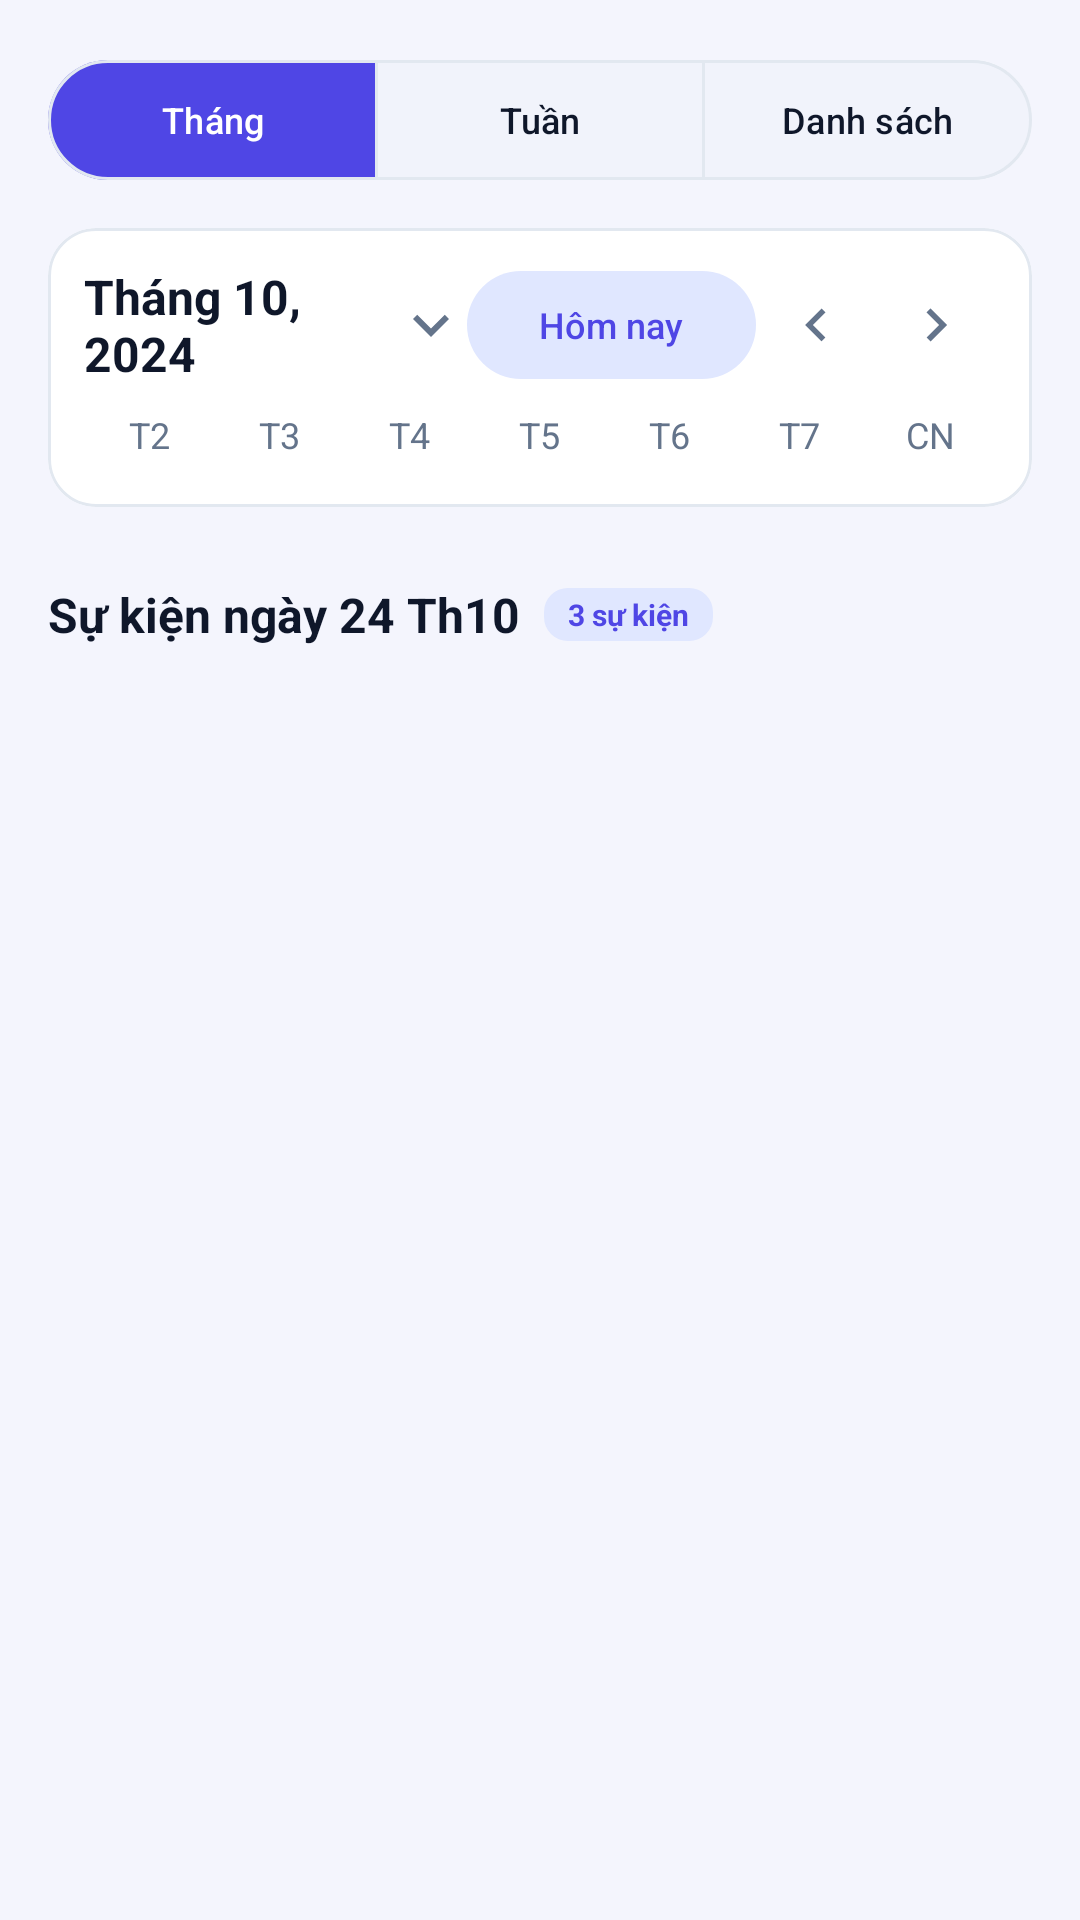

Named icons in this screenshot (1080*1920) and their centers, (x,y):
Sau: (936,325)
Trước: (815,324)
